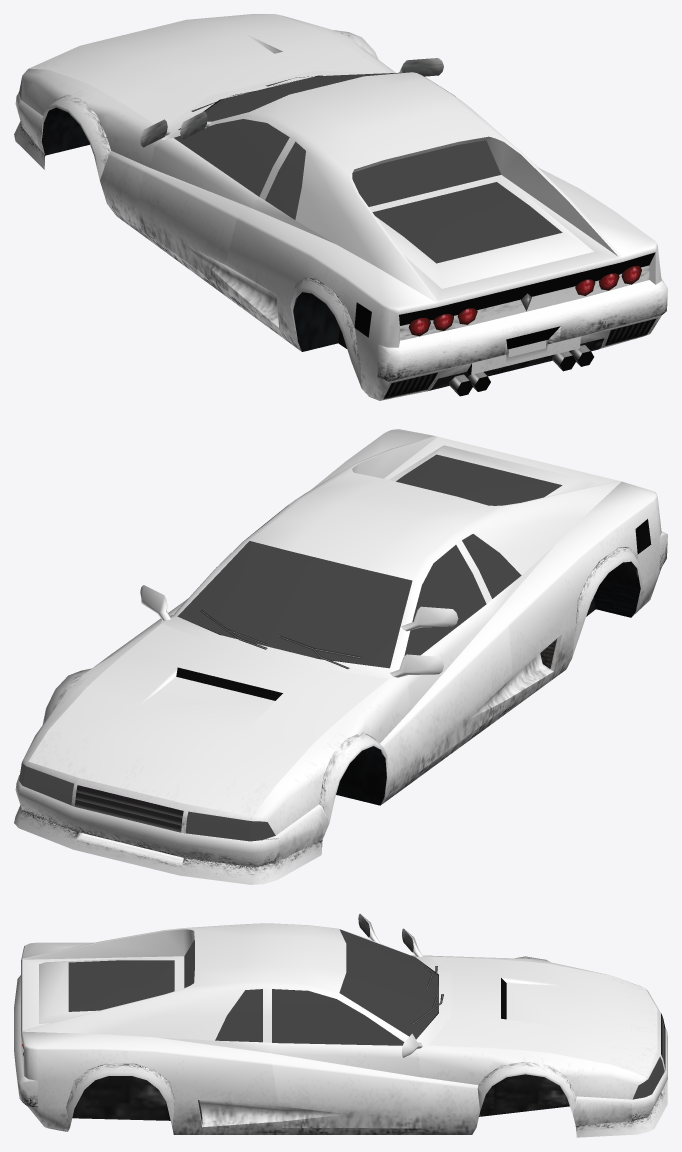
File: cheetah.glb
The picture shows the model from 3 angles, top to bottom: view 1: azimuth 30°, elevation 25°; view 2: azimuth 150°, elevation 25°; view 3: azimuth 270°, elevation 25°; orthographic projection. The views are drawn at different scales.
Visible parts, largest first — view 1: chassis, bonnet_ok, door_lf_ok, boot_ok, bump_rear_ok, windscreen_ok, exhaust_ok, extra2, bump_front_ok; view 2: chassis, bonnet_ok, windscreen_ok, door_lf_ok, bump_front_ok, boot_ok, extra2, extra1; view 3: chassis, bonnet_ok, door_rf_ok, boot_ok, windscreen_ok, bump_front_ok, bump_rear_ok, extra2.
Part boxes in pixels (box(x1,y1,x2,y2)): chassis: box(18, 14, 661, 400); bonnet_ok: box(29, 14, 388, 124); door_lf_ok: box(137, 119, 289, 291); boot_ok: box(369, 175, 593, 288); bump_rear_ok: box(377, 278, 667, 381); windscreen_ok: box(178, 72, 409, 130); exhaust_ok: box(449, 345, 593, 396); extra2: box(140, 58, 443, 147); bump_front_ok: box(14, 91, 44, 169); chassis: box(19, 429, 661, 862); bonnet_ok: box(28, 623, 388, 816); windscreen_ok: box(177, 541, 412, 668); door_lf_ok: box(404, 545, 512, 771); bump_front_ok: box(14, 775, 322, 884); boot_ok: box(389, 445, 593, 505); extra2: box(140, 585, 443, 677); extra1: box(401, 606, 458, 631); chassis: box(21, 923, 665, 1134); bonnet_ok: box(429, 956, 657, 1075); door_rf_ok: box(272, 989, 421, 1128); boot_ok: box(39, 956, 184, 1023); windscreen_ok: box(339, 929, 438, 1039); bump_front_ok: box(575, 1028, 667, 1137); bump_rear_ok: box(14, 975, 37, 1107); extra2: box(402, 928, 422, 1057).
Size of the model in its own units: 2.22 by 1.16 by 5.15.
Materials: 18 (16 with a texture image).
